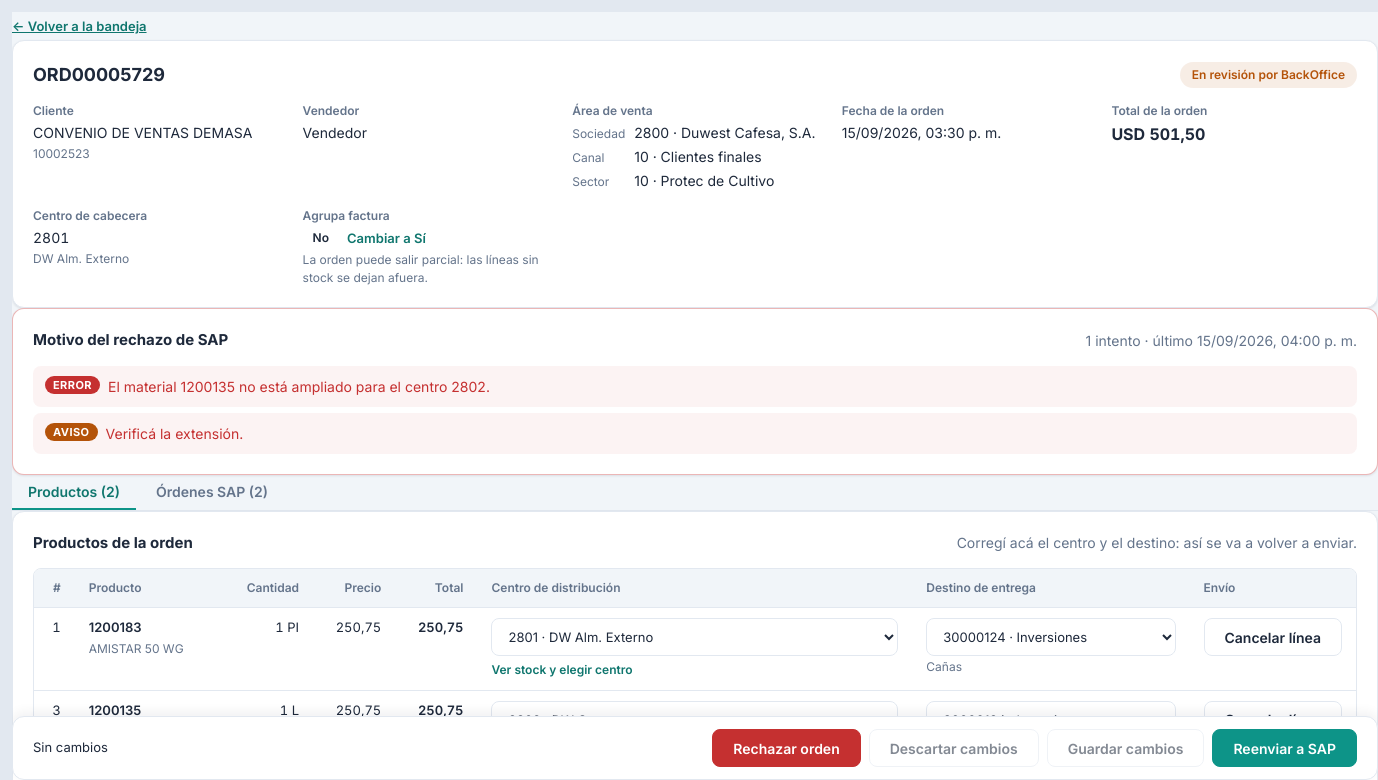
Scenario: ReviewOrderDetail › la pestaña de órdenes SAP es solo consulta
Expected: the heading "ORD00005729" is shown, [33,61,165,88]
Click the tab "Órdenes SAP (2)": (212, 492) [140,474,284,510]
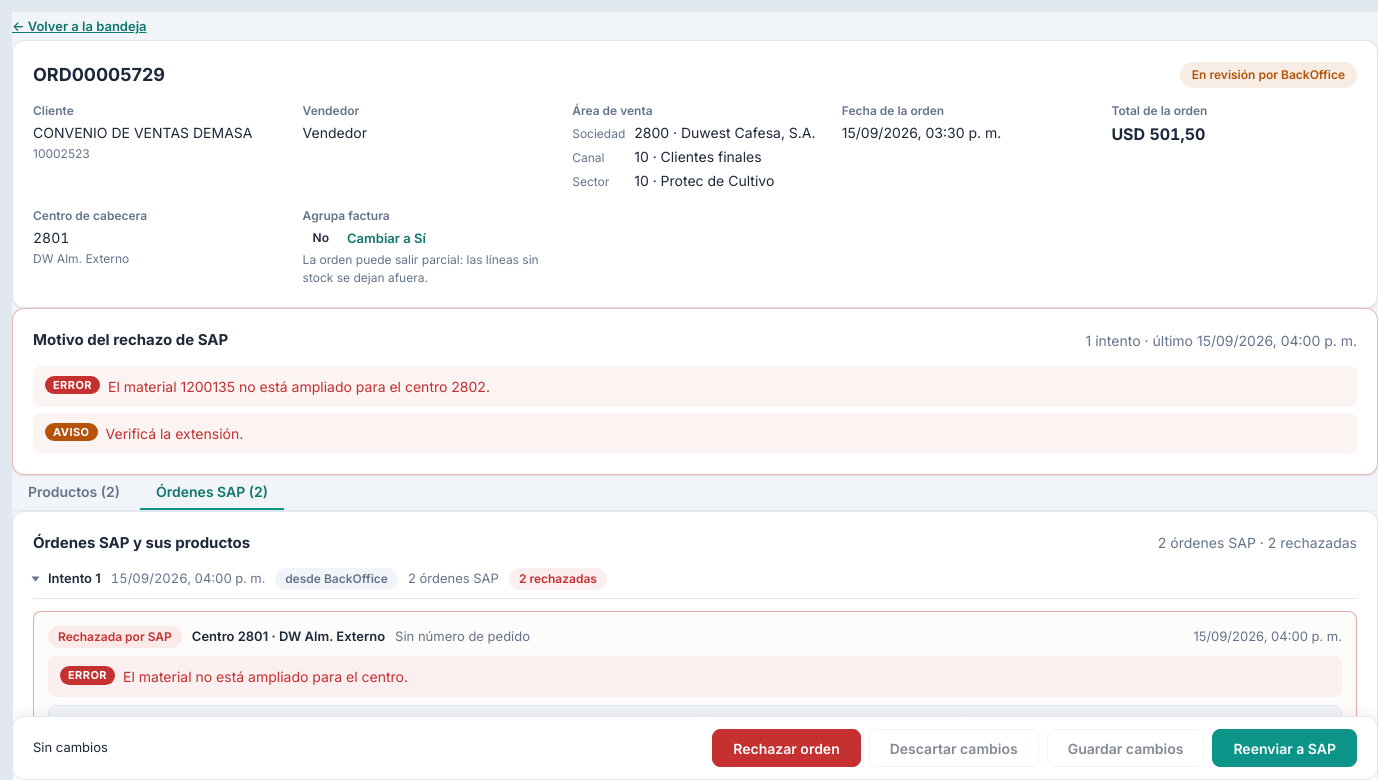
Now the button "Ver stock" is gone
